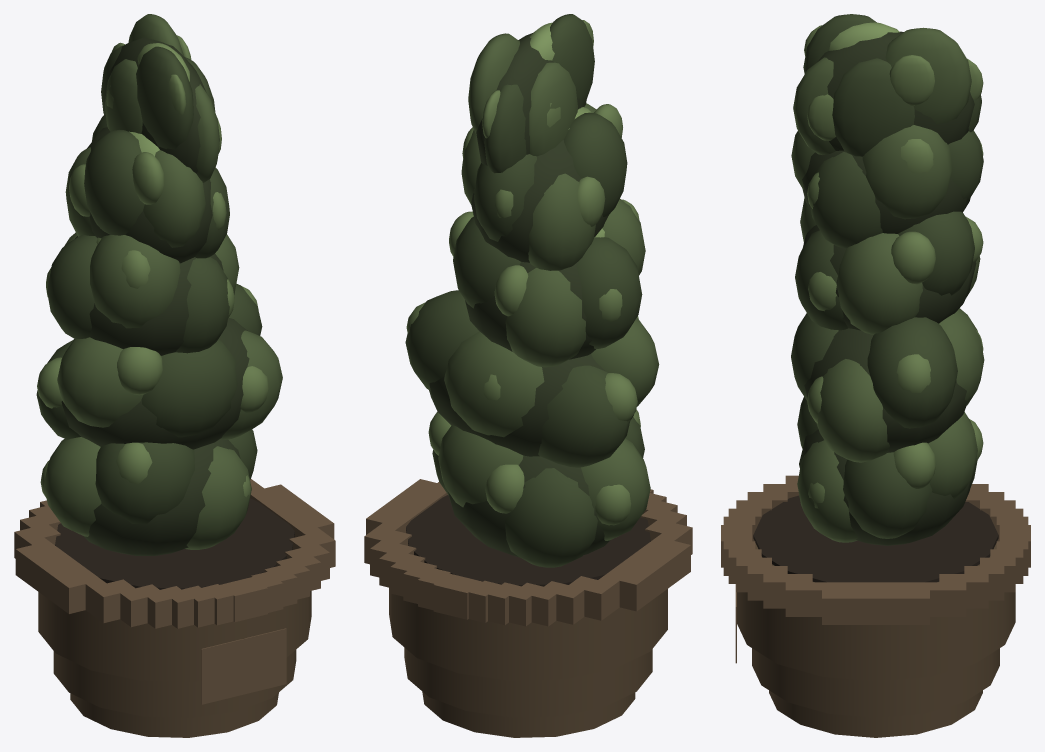
File: CMU3DPottedPlant4.glb
3 renders of one model, left to right at view 1: azimuth 30°, elevation 25°; view 2: azimuth 150°, elevation 25°; view 3: azimuth 270°, elevation 25°, orthographic. The views are drawn at different scales.
Parts seen in each view (by area): view 1: rounded irregular leaf spray (×21), hollow curved planter rim (×17), shadowed foliage core (×5), upper pot wall, recessed soil, fine leafy crown edge (×7), lower tapered pot wall, pot front highlight, narrow pot foot; view 2: rounded irregular leaf spray (×19), hollow curved planter rim (×17), upper pot wall, shadowed foliage core (×5), lower tapered pot wall, recessed soil, fine leafy crown edge (×7), narrow pot foot, crown highlight; view 3: rounded irregular leaf spray (×19), upper pot wall, shadowed foliage core (×5), hollow curved planter rim (×10), recessed soil, fine leafy crown edge (×7), lower tapered pot wall, narrow pot foot, crown highlight.
Boxes of the visible parts, left/top/right/bottom form: rounded irregular leaf spray (×21): left=36, top=14, right=282, bottom=549; hollow curved planter rim (×17): left=14, top=479, right=335, bottom=628; shadowed foliage core (×5): left=61, top=37, right=249, bottom=555; upper pot wall: left=38, top=591, right=311, bottom=681; recessed soil: left=55, top=498, right=294, bottom=589; fine leafy crown edge (×7): left=37, top=152, right=268, bottom=484; lower tapered pot wall: left=53, top=650, right=296, bottom=717; pot front highlight: left=201, top=628, right=286, bottom=704; narrow pot foot: left=70, top=692, right=278, bottom=737; rounded irregular leaf spray (×19): left=405, top=14, right=659, bottom=567; hollow curved planter rim (×17): left=364, top=479, right=692, bottom=626; upper pot wall: left=389, top=587, right=667, bottom=680; shadowed foliage core (×5): left=429, top=33, right=633, bottom=557; lower tapered pot wall: left=404, top=647, right=652, bottom=717; recessed soil: left=406, top=495, right=650, bottom=586; fine leafy crown edge (×7): left=428, top=176, right=637, bottom=525; narrow pot foot: left=422, top=692, right=635, bottom=737; crown highlight: left=529, top=22, right=554, bottom=60; rounded irregular leaf spray (×19): left=791, top=14, right=984, bottom=542; upper pot wall: left=737, top=543, right=1015, bottom=681; shadowed foliage core (×5): left=799, top=31, right=976, bottom=545; hollow curved planter rim (×10): left=728, top=549, right=1023, bottom=624; recessed soil: left=753, top=495, right=998, bottom=582; fine leafy crown edge (×7): left=807, top=55, right=936, bottom=488; lower tapered pot wall: left=752, top=648, right=999, bottom=717; narrow pot foot: left=769, top=690, right=982, bottom=737; crown highlight: left=829, top=22, right=899, bottom=50.
Size of the model in its own units: 0.4 by 0.9492 by 0.3992.
